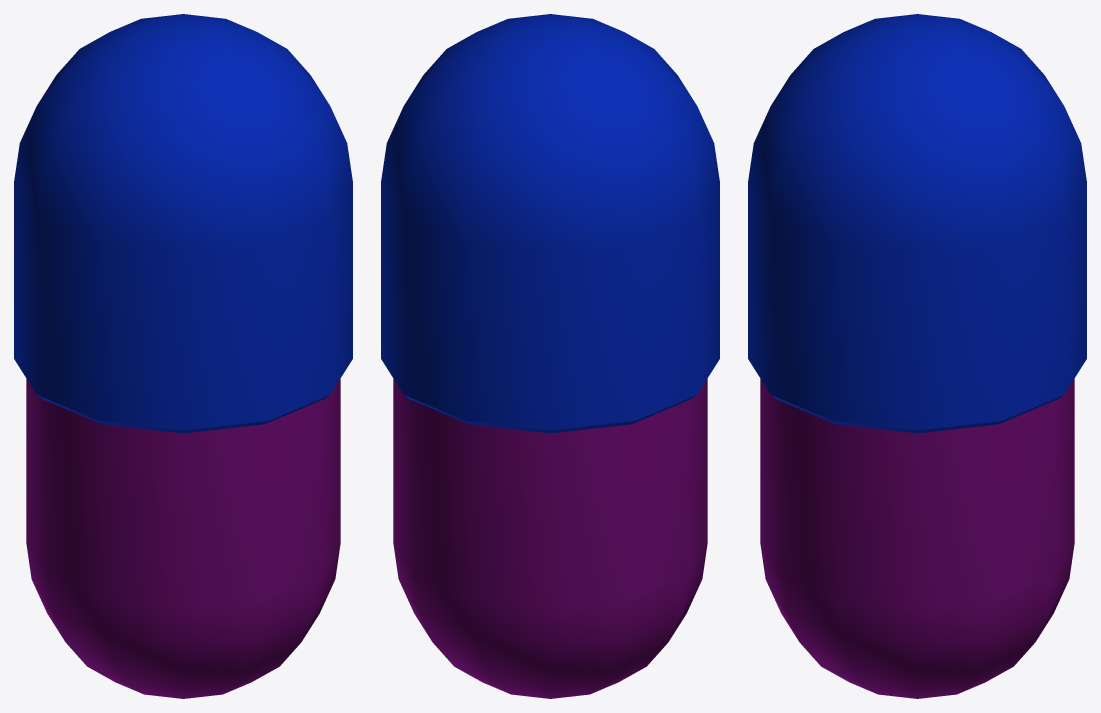
File: pill_pink_blue.FBX
3 renders of one model, left to right at view 1: azimuth 30°, elevation 25°; view 2: azimuth 150°, elevation 25°; view 3: azimuth 270°, elevation 25°, orthographic.
Visible parts, largest first — view 1: Capsule001; view 2: Capsule001; view 3: Capsule001.
Boxes of the visible parts, left/top/right/bottom form: Capsule001: left=14, top=14, right=352, bottom=698; Capsule001: left=381, top=14, right=719, bottom=698; Capsule001: left=748, top=14, right=1086, bottom=698.
Size of the model in its own units: 55.21 by 118 by 55.21.
